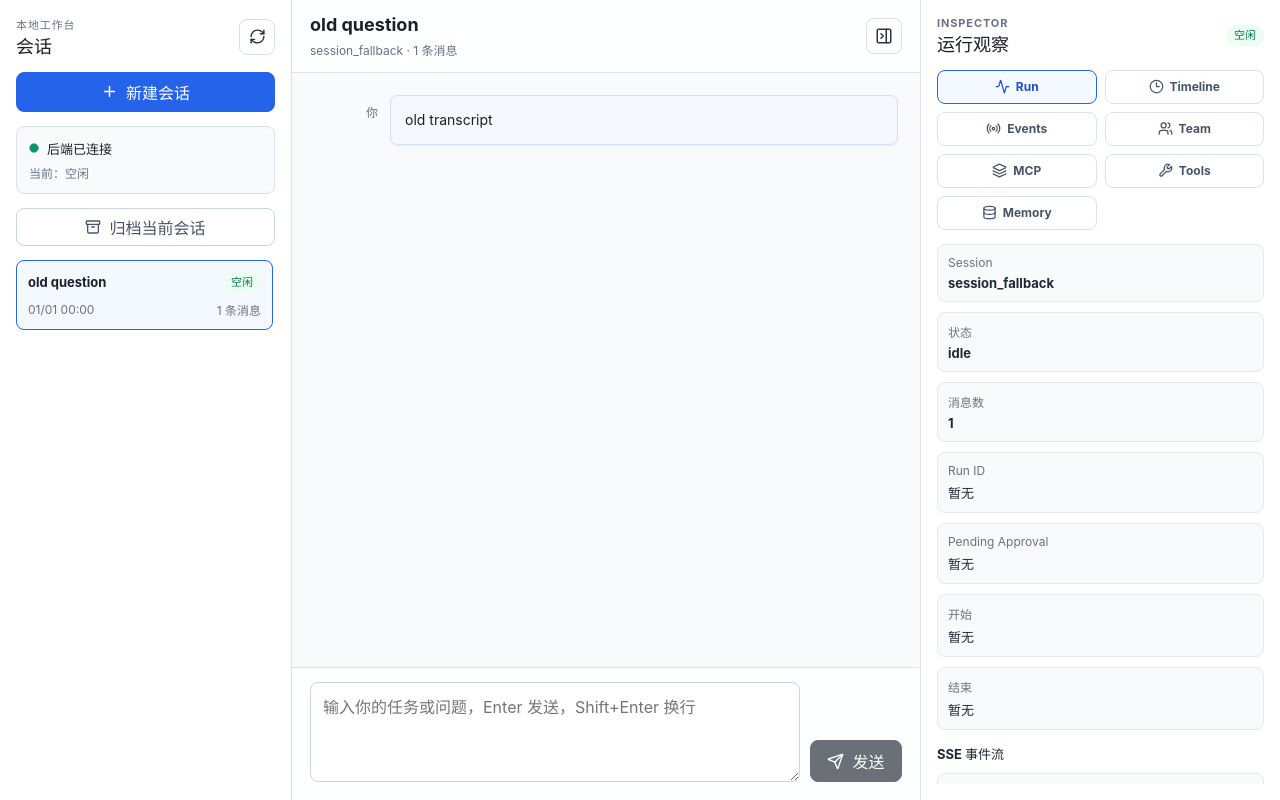
Test case: messages fallback › keeps the transcript when messages fallback cannot refresh session detail
Expected: the text "old transcript" is shown, 405,111 -> 493,128
Type "new fallback question" into the text box at (555, 732), box 310,682 -> 800,782
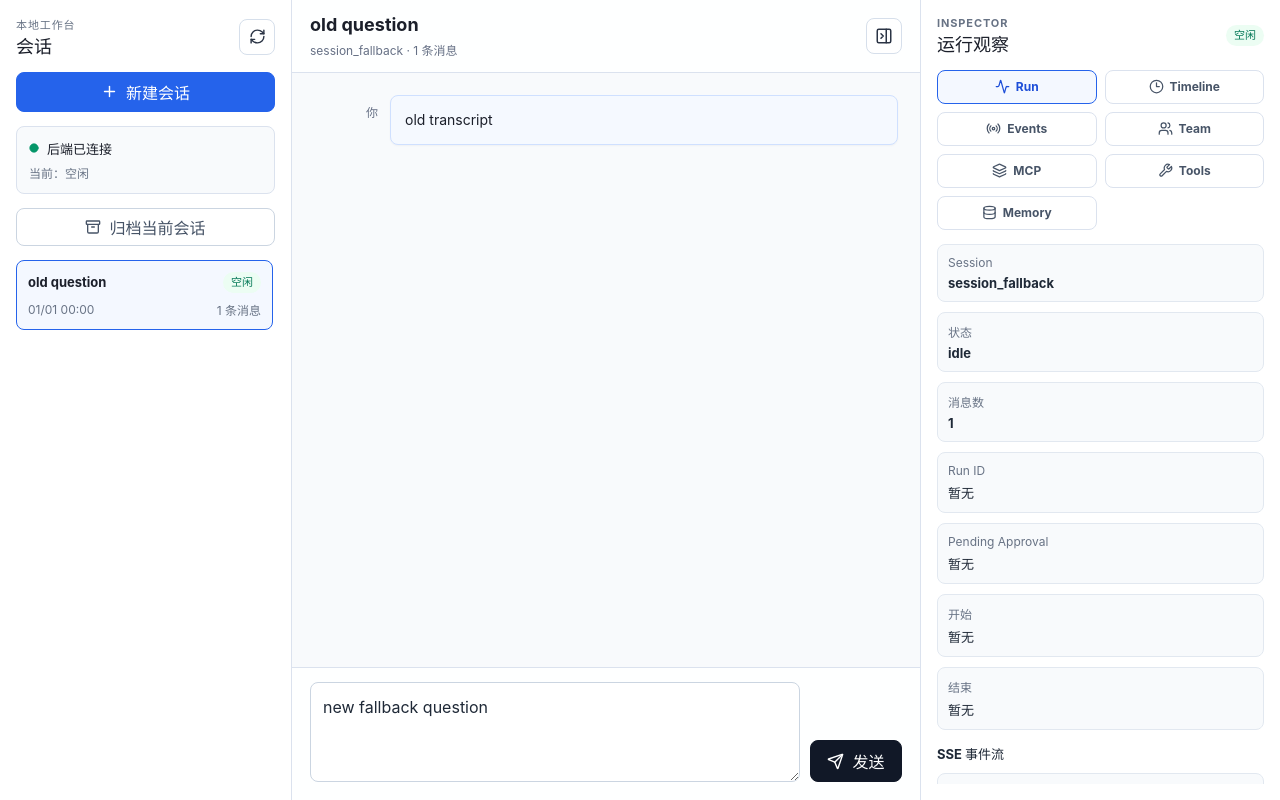
Press Enter in the text box, box 310,682 -> 800,782
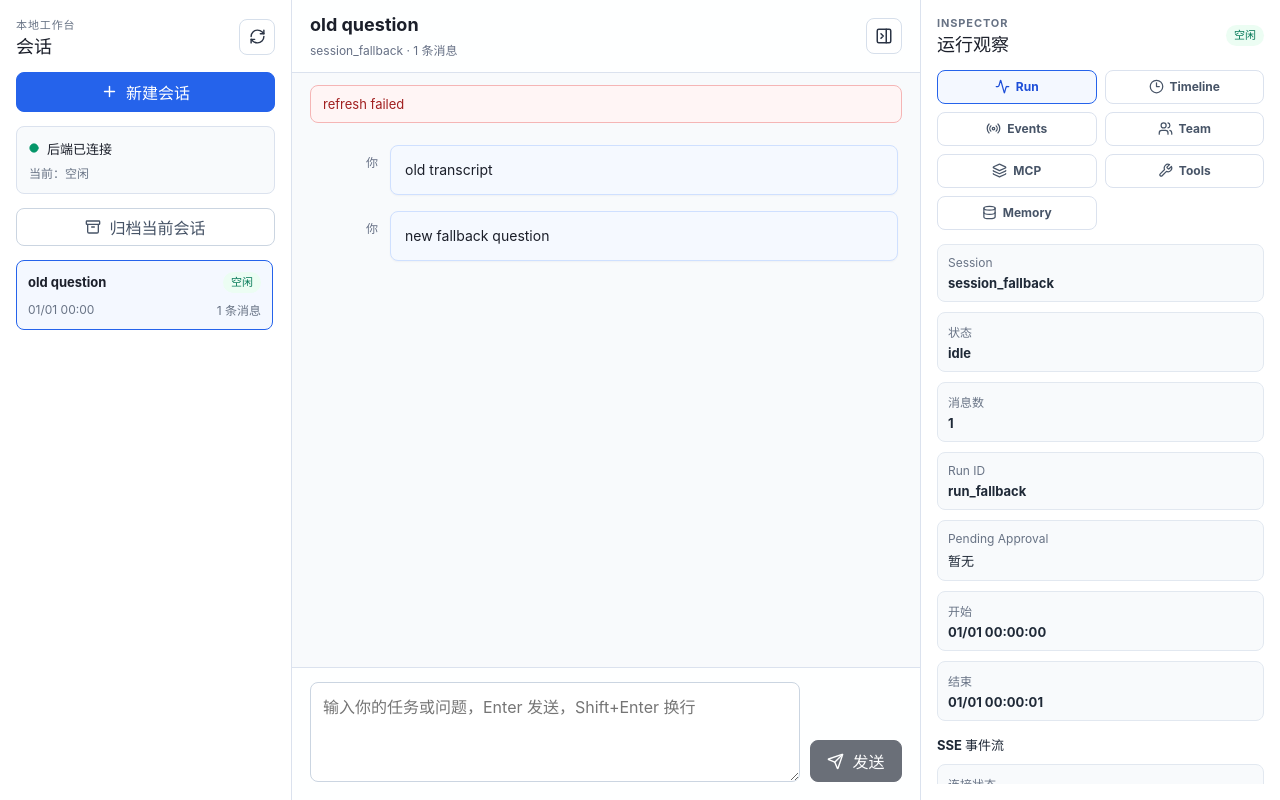
Expected: the text "old transcript" is shown, 405,161 -> 493,178
Result: the text "refresh failed" is shown at 310,85 -> 902,123
Result: the text "new fallback question" is shown at 405,227 -> 549,244
